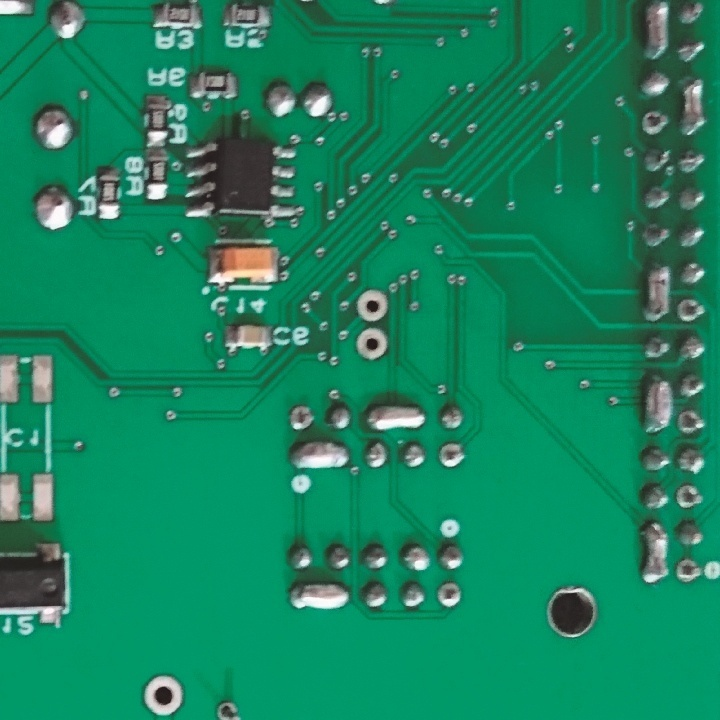F: (139, 672, 184, 715), (354, 286, 390, 324), (354, 325, 388, 363), (639, 108, 670, 139), (436, 439, 466, 471), (284, 402, 316, 431), (676, 409, 706, 438), (436, 580, 464, 610), (674, 558, 704, 586), (676, 296, 705, 322), (676, 484, 702, 509), (213, 698, 241, 720)
P: (287, 578, 354, 614), (284, 438, 351, 472), (641, 369, 673, 438), (641, 521, 671, 590), (364, 402, 430, 432), (640, 1, 670, 63), (642, 260, 673, 320), (679, 71, 704, 138)
